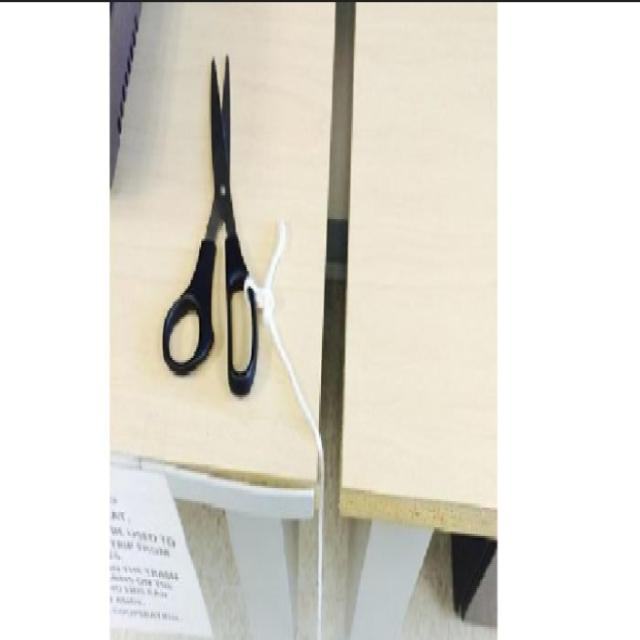scissor: (148, 17, 262, 410)
